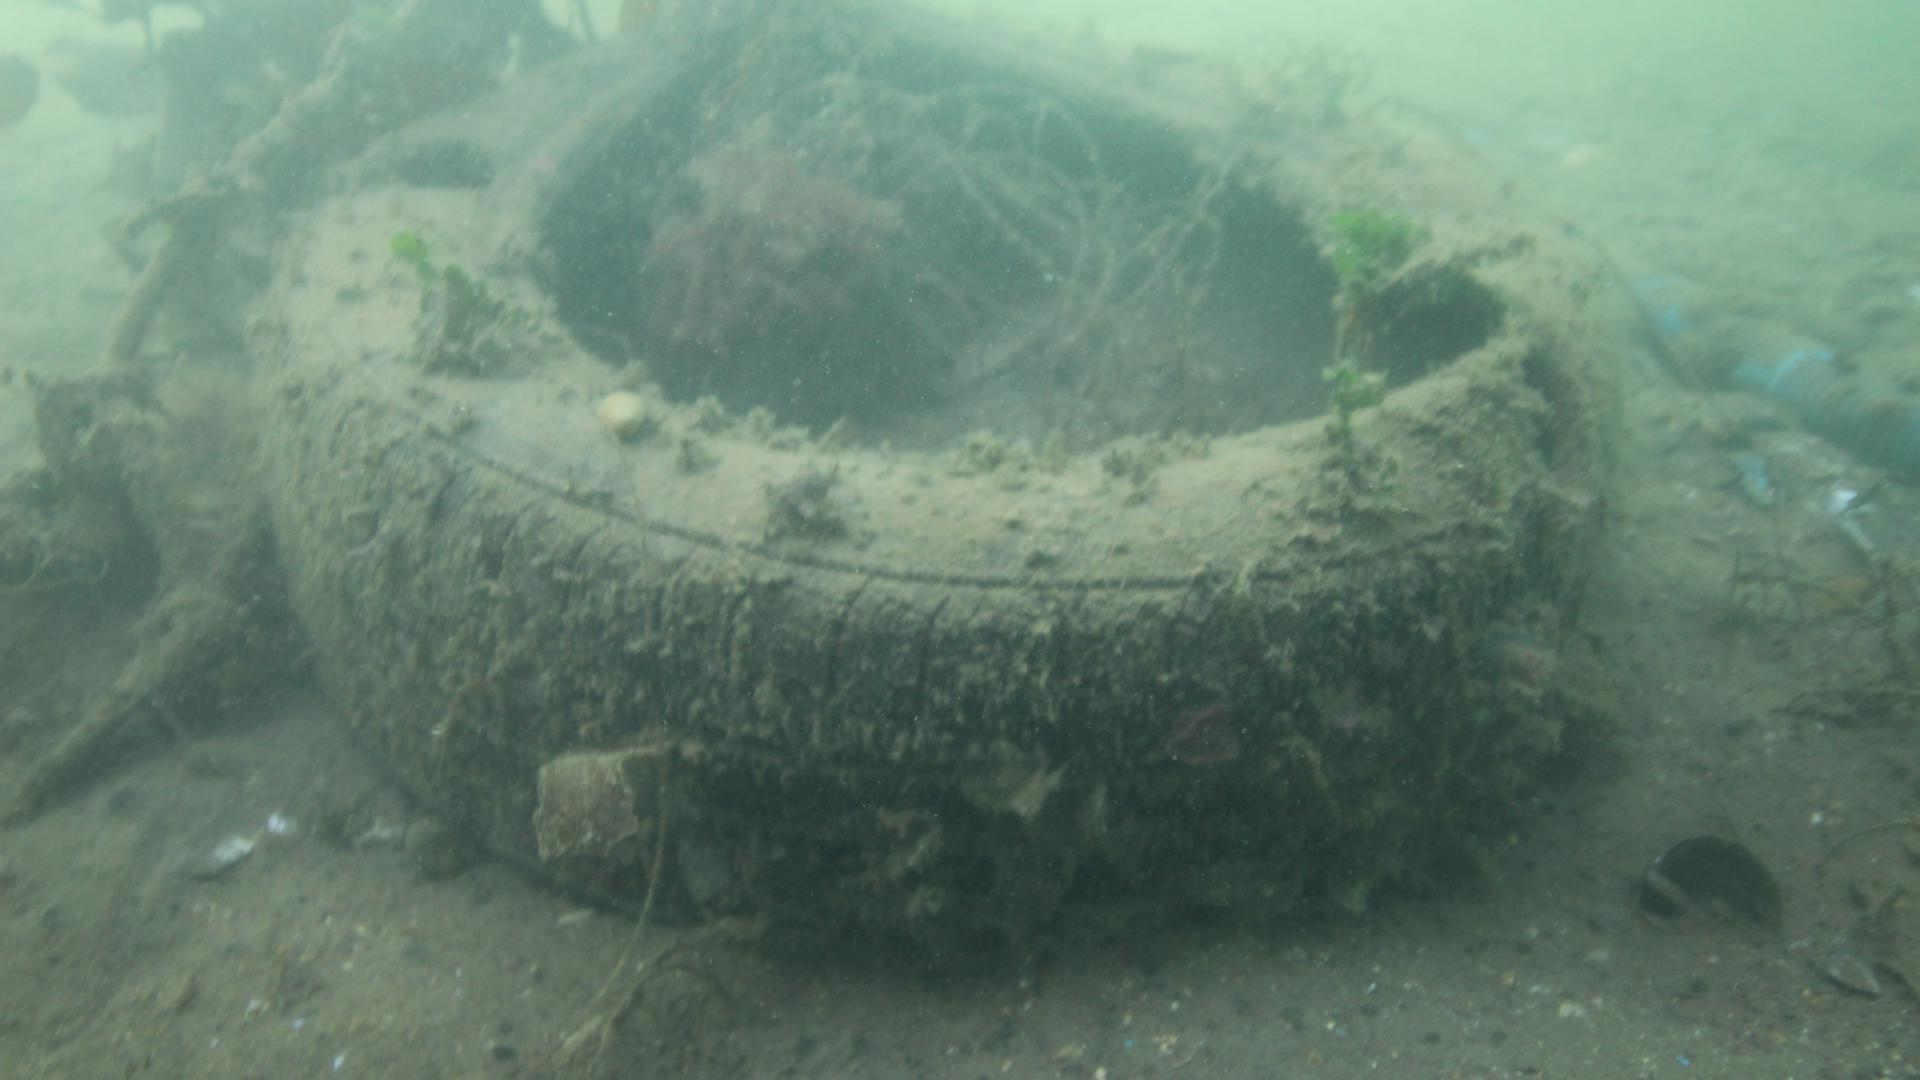tire: (257, 0, 1619, 955)
